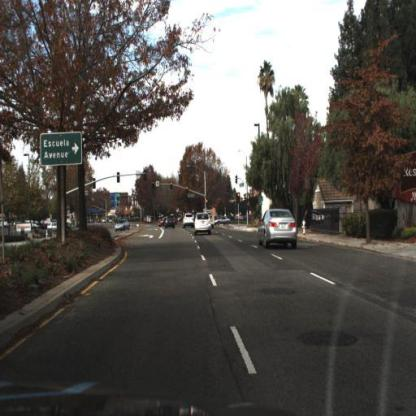car: (257, 205, 298, 252), (193, 211, 214, 240), (182, 210, 198, 233), (113, 220, 132, 232), (165, 214, 178, 230)
trafficLight: (205, 197, 211, 211)
trafficLight-Red: (169, 179, 175, 195), (235, 191, 241, 207), (186, 183, 191, 195)
trafficLight-RedLeft: (152, 178, 157, 191)
